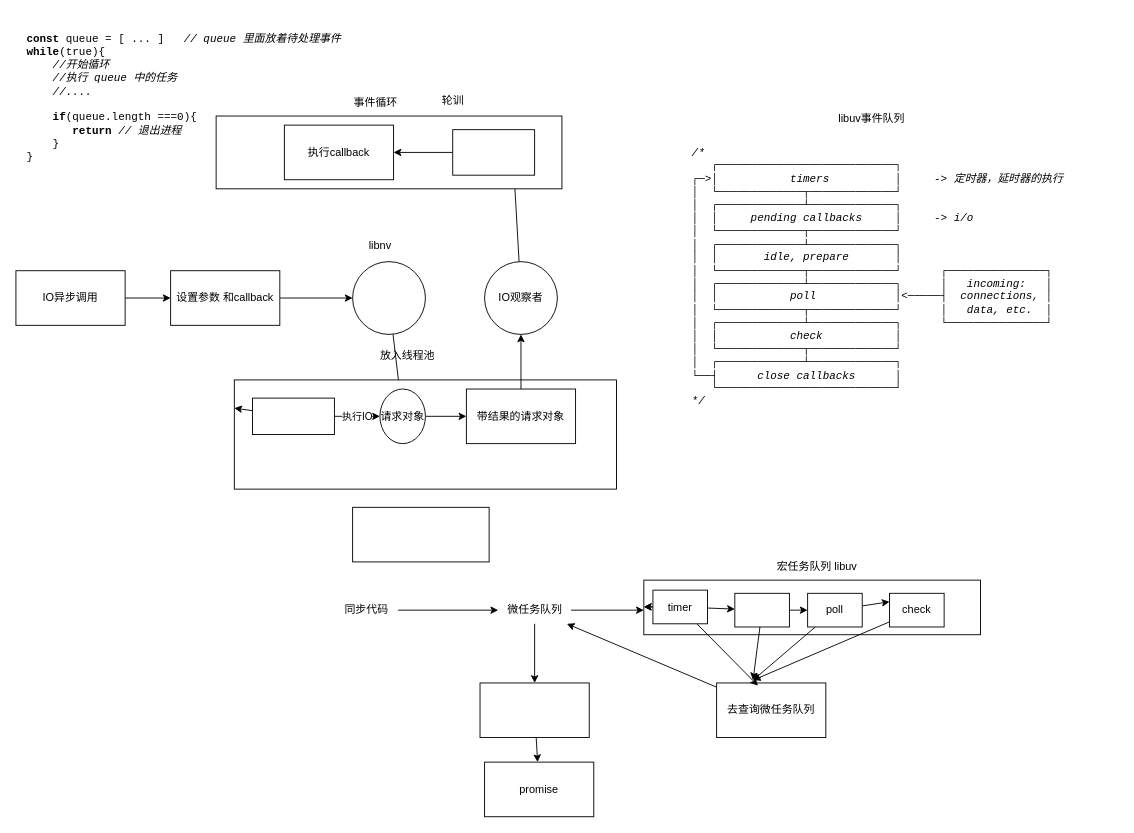
Image size: 1134x833. Some labels were removed from this diagram. The box of each missing label's shape, as (x1, y1, x2, y2) in pixels:
nexttick: (479, 682, 589, 738)
nodejs事件循环整体顺序: (352, 506, 489, 562)
pending: (734, 592, 789, 627)
取出结果和回调函数: (452, 129, 535, 175)
可用IO线程: (252, 397, 334, 435)
封装请求对象: (352, 261, 425, 334)
